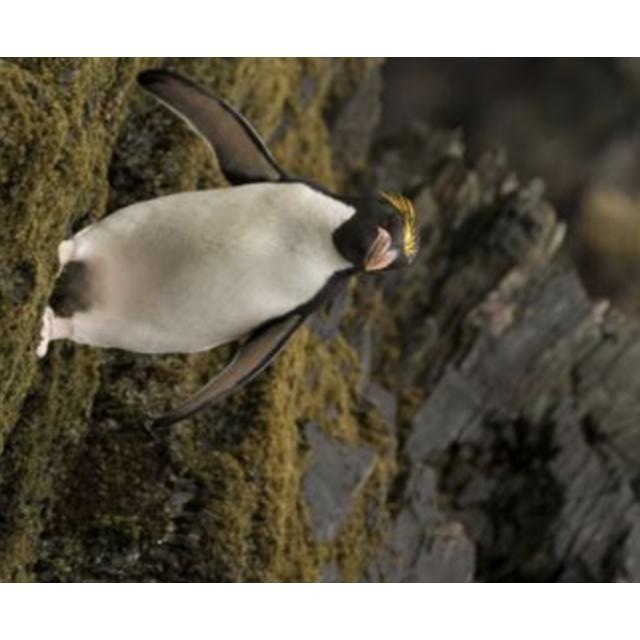penguin: (32, 69, 420, 427)
